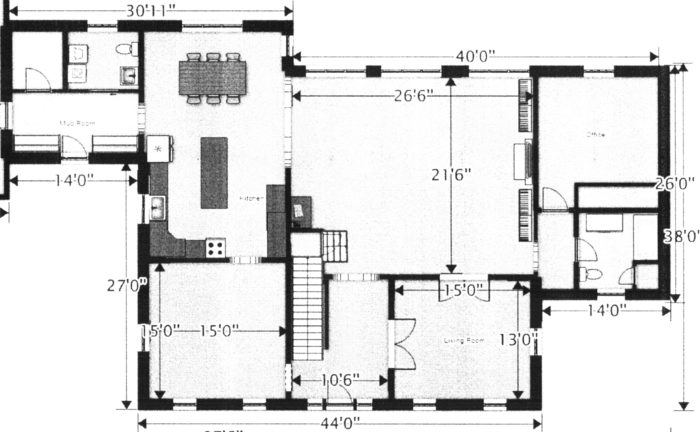door: (395, 314, 425, 374), (21, 64, 52, 88), (60, 133, 90, 157), (540, 185, 571, 208), (579, 235, 604, 263)
